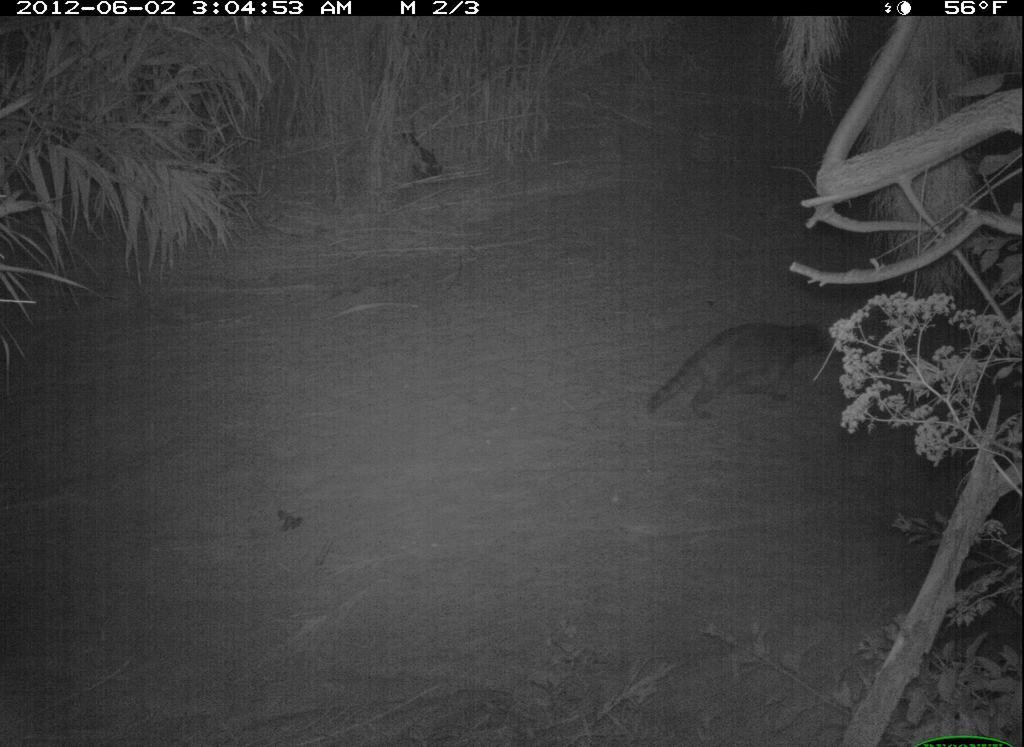raccoon: (633, 317, 843, 431)
